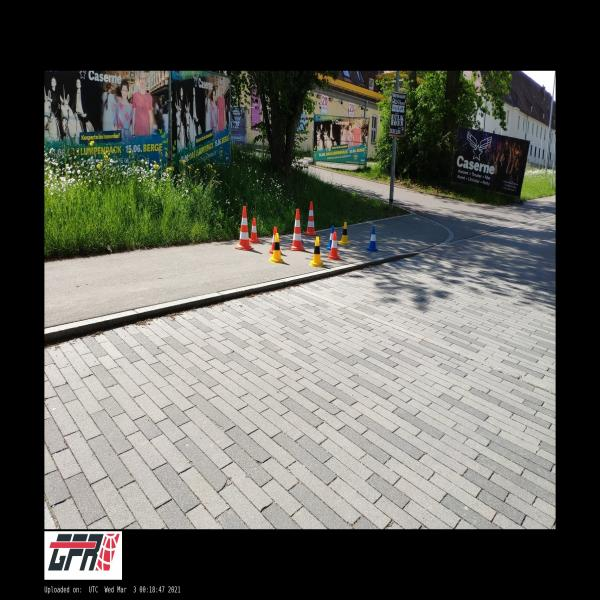blue_cone: (365, 228, 378, 252), (326, 226, 334, 250)
large_orange_cone: (235, 206, 254, 251), (289, 209, 305, 250), (304, 201, 317, 235)
orange_cone: (327, 232, 340, 260), (269, 227, 282, 254), (249, 218, 260, 243)
yellow_cone: (308, 236, 323, 268), (269, 233, 284, 263), (339, 222, 350, 245)
